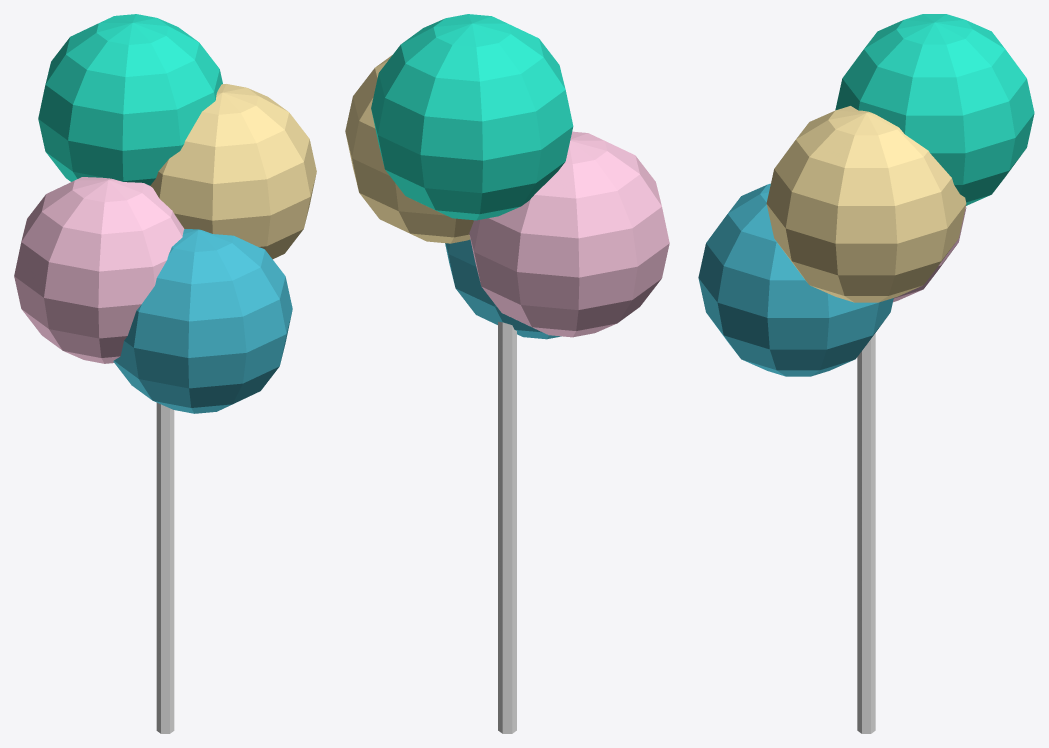
The model's file is prop_balloon_bundle.glb.
3 renders of one model, left to right at view 1: azimuth 30°, elevation 25°; view 2: azimuth 150°, elevation 25°; view 3: azimuth 270°, elevation 25°, orthographic. The views are drawn at different scales.
Parts seen in each view (by area): view 1: prop_balloon_bundle; view 2: prop_balloon_bundle; view 3: prop_balloon_bundle.
Boxes of the visible parts, x1,y1,x2,y2 form: prop_balloon_bundle: (14, 14, 316, 733); prop_balloon_bundle: (345, 14, 669, 733); prop_balloon_bundle: (698, 14, 1034, 733).
Size of the model in its own units: 0.7185 by 1.72 by 0.74.
